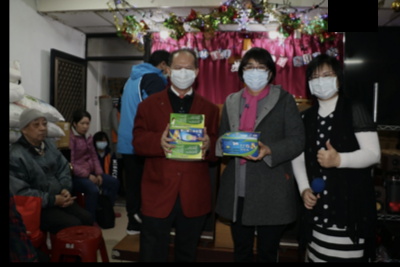with_mask: (307, 71, 337, 100), (242, 63, 269, 90), (171, 64, 194, 89), (94, 139, 105, 151)
without_mask: (24, 121, 46, 142), (75, 120, 89, 135)
